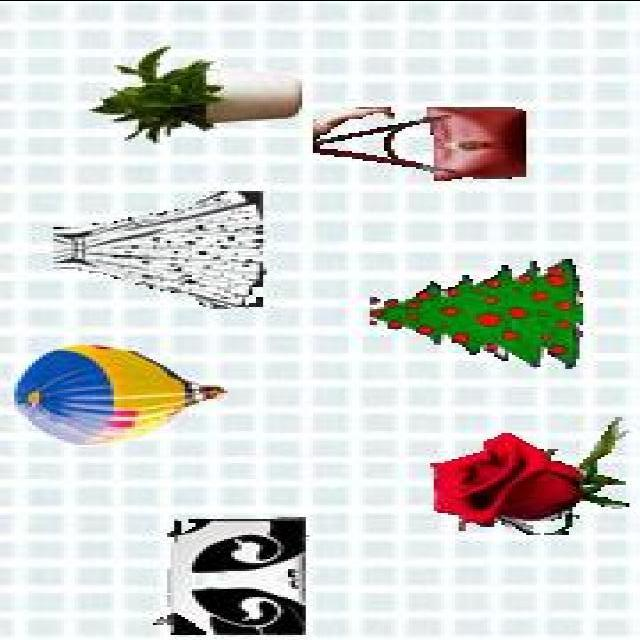Other Objects: (48, 190, 265, 308), (431, 416, 632, 535), (13, 342, 227, 444), (87, 45, 301, 142), (312, 106, 530, 180)
